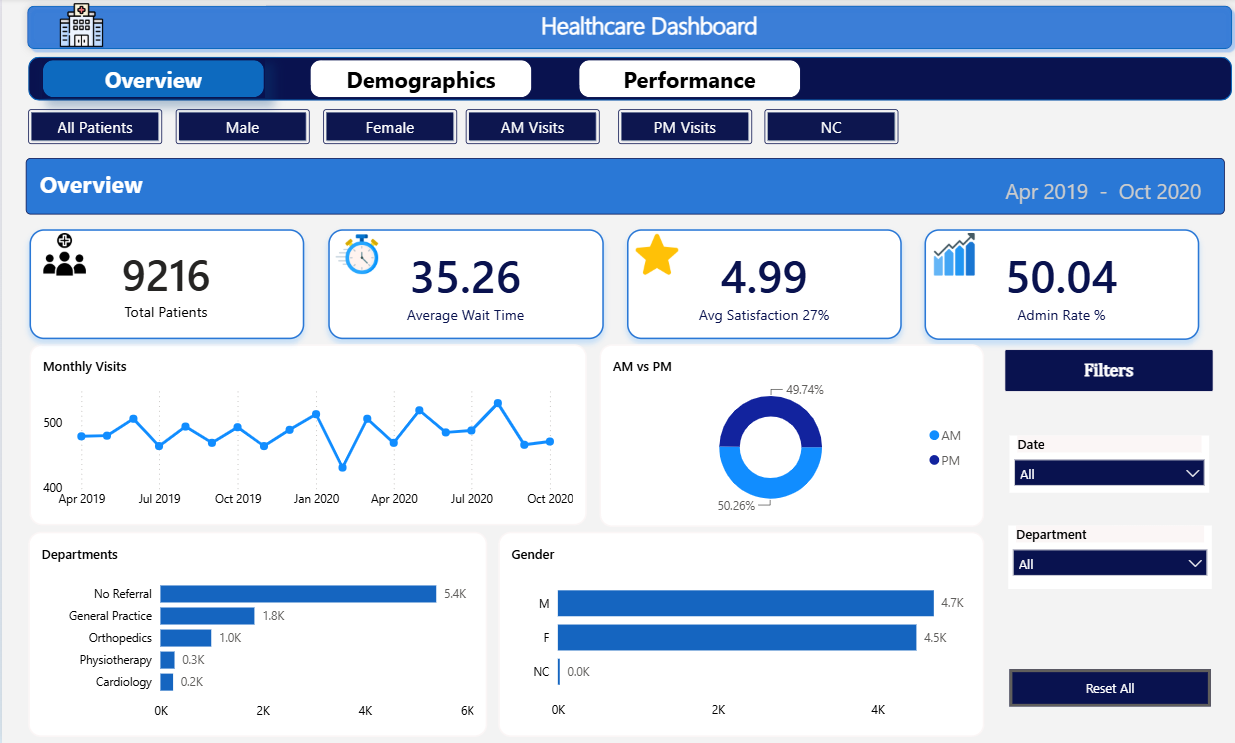

What the dashboard file says about the page in this screenshot:
{"tool":"powerbi","page":{"name":"Page 1 Overview","canvas":[1280,771],"ordinal":0},"visuals":[{"type":"shape","box":[18.1,0,1261.2,60.8],"z":0},{"type":"textbox","box":[265.2,0,808.5,50.4],"z":1000},{"type":"card","fields":{"Values":["Sheet1.Average Wait Time"]},"box":[337.6,239.3,284.6,113.8],"z":2000},{"type":"card","fields":{"Values":["Sheet1.Admin Rate %"]},"box":[953,239.3,283.8,114.1],"z":3000},{"type":"card","fields":{"Values":["Sheet1.Avg Satisfaction"]},"box":[645.9,239,284.2,113.7],"z":4000},{"type":"image","box":[24.6,5.2,115.1,45.3],"z":5000},{"type":"textbox","box":[24.6,165.6,1239.2,58.2],"z":6000},{"type":"lineChart","title":"  Monthly Visits","fields":{"Y":["Sheet1.Total Patients"],"Category":["Sheet1.Date.Variation.Date Hierarchy.Year","Sheet1.Date.Variation.Date Hierarchy.Month"]},"box":[28.8,357.5,576.2,187.5],"z":7000},{"type":"donutChart","title":" AM vs PM","fields":{"Y":["Sheet1.Total Patients"],"Category":["Sheet1.Moment"]},"box":[617.5,357.5,397.5,188.8],"z":8000},{"type":"barChart","title":"Departments","fields":{"Category":["Sheet1.department_referral"],"Y":["Sheet1.Total Patients"]},"box":[27.2,551.1,474.7,212.1],"z":9000},{"type":"barChart","title":"Gender","fields":{"Y":["Sheet1.Total Patients"],"Category":["Sheet1.patient_gender"]},"box":[512.9,551.6,502.5,211.9],"z":10000},{"type":"shape","box":[1041.3,357,222.5,404.9],"z":11000},{"type":"actionButton","box":[27.2,115.1,138.4,36.2],"z":14000},{"type":"actionButton","box":[179.8,115.1,138.4,36.2],"z":15000},{"type":"actionButton","box":[332.4,115.1,138.4,36.2],"z":16000},{"type":"actionButton","box":[479.9,115.1,138.4,36.2],"z":17000},{"type":"actionButton","box":[636.4,115.1,138.4,36.2],"z":18000},{"type":"actionButton","box":[787.8,115.1,138.4,36.2],"z":19000},{"type":"textbox","box":[1043.5,364.5,215.7,43.1],"z":20000},{"type":"slicer","fields":{"Values":["Sheet1.Date"]},"box":[1049,452.2,207.3,59.8],"z":21000},{"type":"slicer","fields":{"Values":["Sheet1.department_referral"]},"box":[1049,546.8,210.1,65.4],"z":23000},{"type":"shape","box":[27.2,60.8,1076.3,45.3],"z":25000},{"type":"actionButton","box":[1049,695,208,38.8],"z":26000},{"type":"actionButton","box":[41.4,63.4,230.3,40.1],"z":27000},{"type":"actionButton","box":[318.2,63.4,230.3,40.1],"z":28000},{"type":"actionButton","box":[595,63.4,230.3,40.1],"z":29000},{"type":"cardVisual","fields":{"Data":["Sheet1.Total Patients"]},"box":[28.8,238.8,283.8,113.8],"z":30000}]}

Visuals, with their boxes in screenshot pixels (x1, y1, x2, y2), scaled from the page's 1280x771 canvas onto the 1235x743 screenshot:
shape: {"x1": 17, "y1": 0, "x2": 1234, "y2": 59}
textbox: {"x1": 256, "y1": 0, "x2": 1036, "y2": 49}
card - Sheet1.Average Wait Time: {"x1": 326, "y1": 231, "x2": 600, "y2": 340}
card - Sheet1.Admin Rate %: {"x1": 919, "y1": 231, "x2": 1193, "y2": 341}
card - Sheet1.Avg Satisfaction: {"x1": 623, "y1": 230, "x2": 897, "y2": 340}
image: {"x1": 24, "y1": 5, "x2": 135, "y2": 49}
textbox: {"x1": 24, "y1": 160, "x2": 1219, "y2": 216}
"  Monthly Visits" lineChart: {"x1": 28, "y1": 345, "x2": 584, "y2": 525}
" AM vs PM" donutChart: {"x1": 596, "y1": 345, "x2": 979, "y2": 526}
"Departments" barChart: {"x1": 26, "y1": 531, "x2": 484, "y2": 735}
"Gender" barChart: {"x1": 495, "y1": 532, "x2": 980, "y2": 736}
shape: {"x1": 1005, "y1": 344, "x2": 1219, "y2": 734}
actionButton: {"x1": 26, "y1": 111, "x2": 160, "y2": 146}
actionButton: {"x1": 173, "y1": 111, "x2": 307, "y2": 146}
actionButton: {"x1": 321, "y1": 111, "x2": 454, "y2": 146}
actionButton: {"x1": 463, "y1": 111, "x2": 597, "y2": 146}
actionButton: {"x1": 614, "y1": 111, "x2": 748, "y2": 146}
actionButton: {"x1": 760, "y1": 111, "x2": 894, "y2": 146}
textbox: {"x1": 1007, "y1": 351, "x2": 1215, "y2": 393}
slicer - Sheet1.Date: {"x1": 1012, "y1": 436, "x2": 1212, "y2": 493}
slicer - Sheet1.department_referral: {"x1": 1012, "y1": 527, "x2": 1215, "y2": 590}
shape: {"x1": 26, "y1": 59, "x2": 1065, "y2": 102}
actionButton: {"x1": 1012, "y1": 670, "x2": 1213, "y2": 707}
actionButton: {"x1": 40, "y1": 61, "x2": 262, "y2": 100}
actionButton: {"x1": 307, "y1": 61, "x2": 529, "y2": 100}
actionButton: {"x1": 574, "y1": 61, "x2": 796, "y2": 100}
cardVisual - Sheet1.Total Patients: {"x1": 28, "y1": 230, "x2": 302, "y2": 340}
